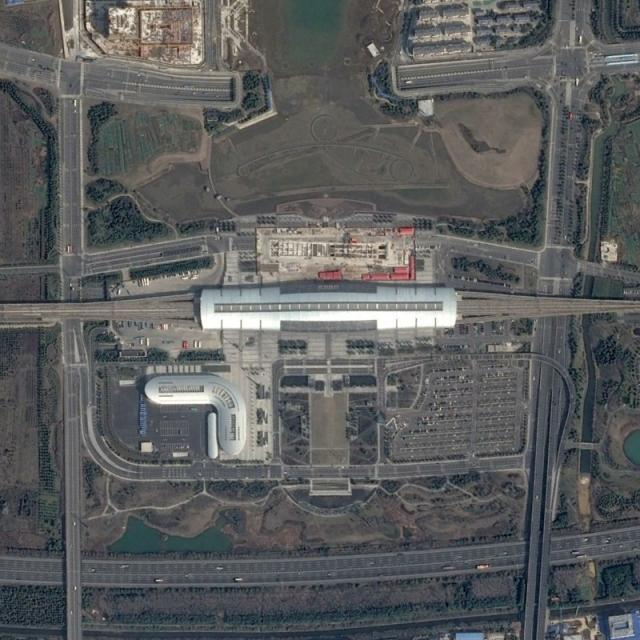vehicle: (476, 565, 490, 570), (442, 566, 455, 570), (576, 555, 586, 558), (154, 579, 164, 582), (70, 244, 73, 254), (67, 244, 70, 253), (74, 98, 77, 107), (234, 578, 242, 581), (572, 551, 579, 554)
